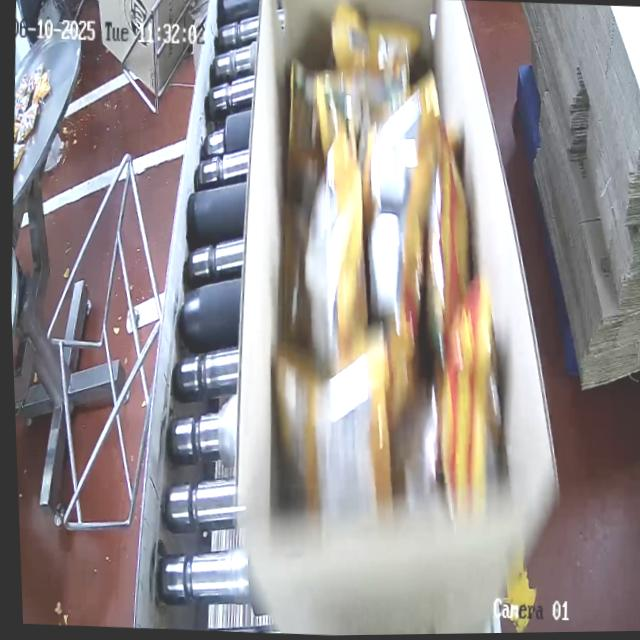FRENCH_CHEESE: (260, 22, 533, 498)
